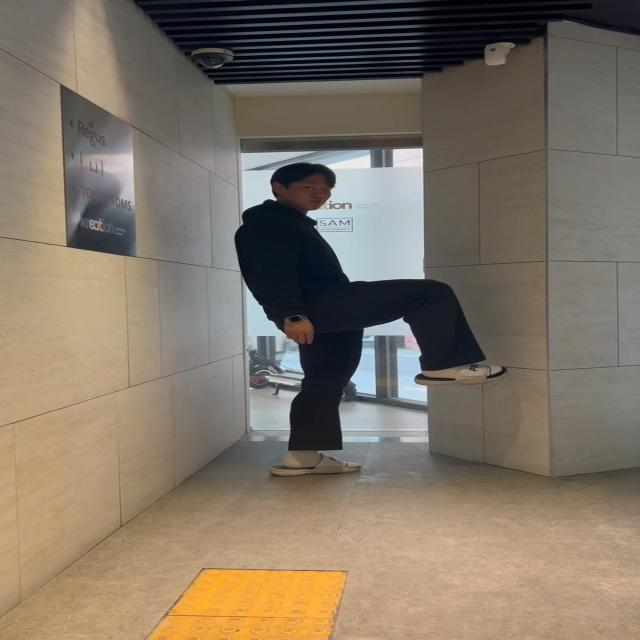knee: (327, 267, 519, 390)
